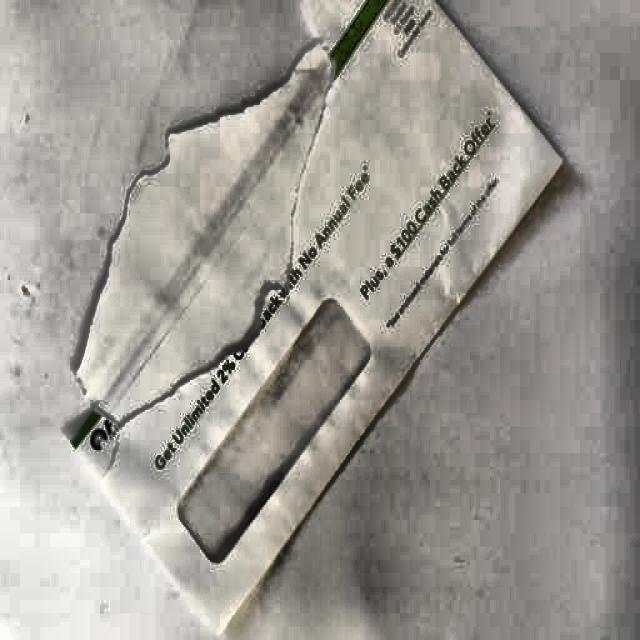paper: (58, 1, 558, 640)
